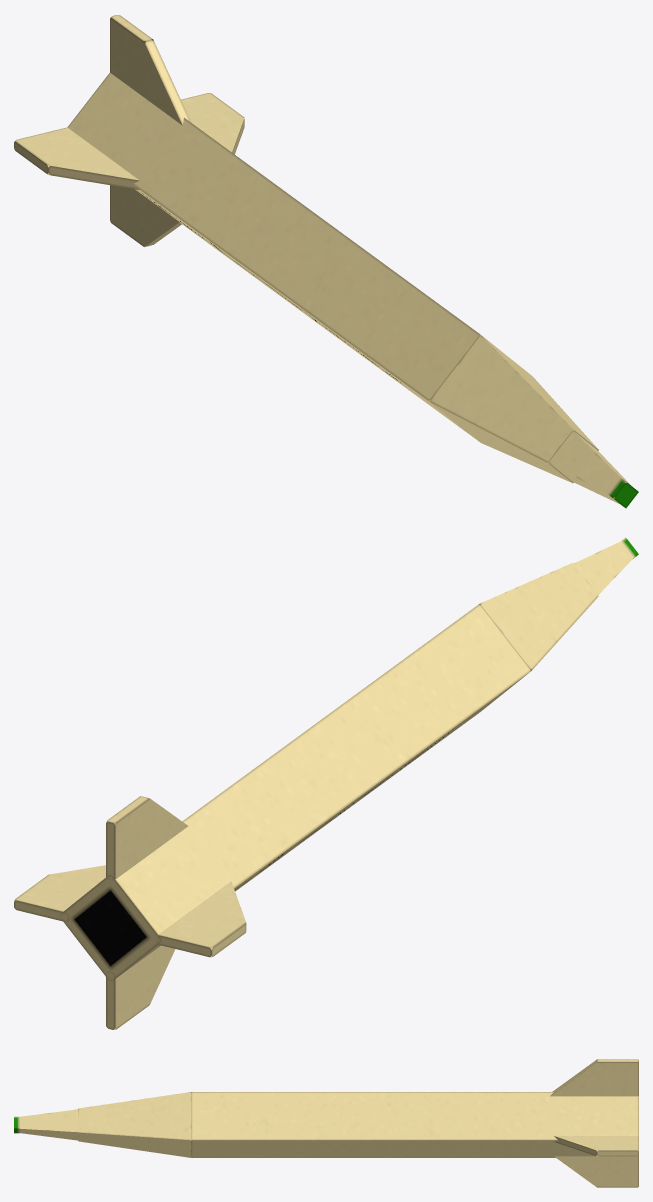
File: shahab3.obj
The picture shows the model from 3 angles, top to bottom: view 1: azimuth 30°, elevation 25°; view 2: azimuth 150°, elevation 25°; view 3: azimuth 270°, elevation 25°; orthographic projection. The views are drawn at different scales.
Visible parts, largest first — view 1: mesh, mesh.001, mesh.005, mesh.004, mesh.002, mesh.006, mesh.003; view 2: mesh, mesh.001, mesh.005, mesh.004, mesh.006, mesh.003, mesh.002; view 3: mesh, mesh.001, mesh.005, mesh.006, mesh.002, mesh.003.
Part boxes in pixels (x1,y1,x2,y2): mesh: (67,72,480,440); mesh.001: (430,335,598,483); mesh.005: (110,15,191,125); mesh.004: (14,127,139,189); mesh.002: (547,430,638,508); mesh.006: (110,185,181,246); mesh.003: (181,93,244,154); mesh: (60,604,530,981); mesh.001: (479,563,598,671); mesh.005: (106,796,187,880); mesh.004: (157,881,246,957); mesh.006: (106,945,175,1029); mesh.003: (14,865,105,921); mesh.002: (574,537,638,594); mesh: (191,1092,638,1157); mesh.001: (78,1092,191,1157); mesh.005: (550,1059,638,1096); mesh.006: (554,1156,638,1187); mesh.002: (14,1109,78,1140); mesh.003: (554,1136,638,1156).
Bounding box in the file's own units: 2.69 × 2.69 × 12.13.
